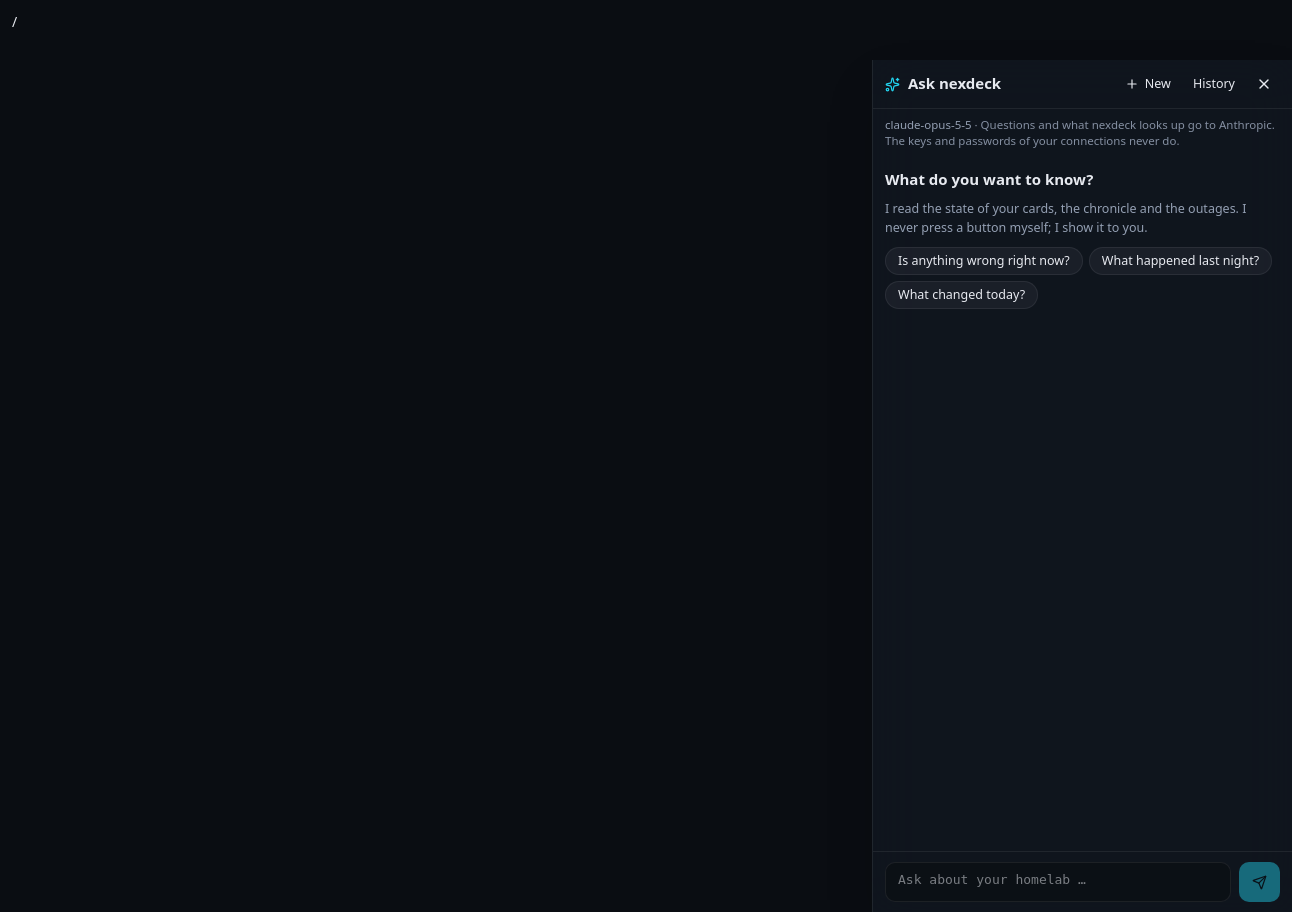
karten18 ac5: the draft in the chat › says when sample values went along
Type "Build me a card" into the text box named "Question" at {"x": 1058, "y": 882}, box [885,862,1231,902]
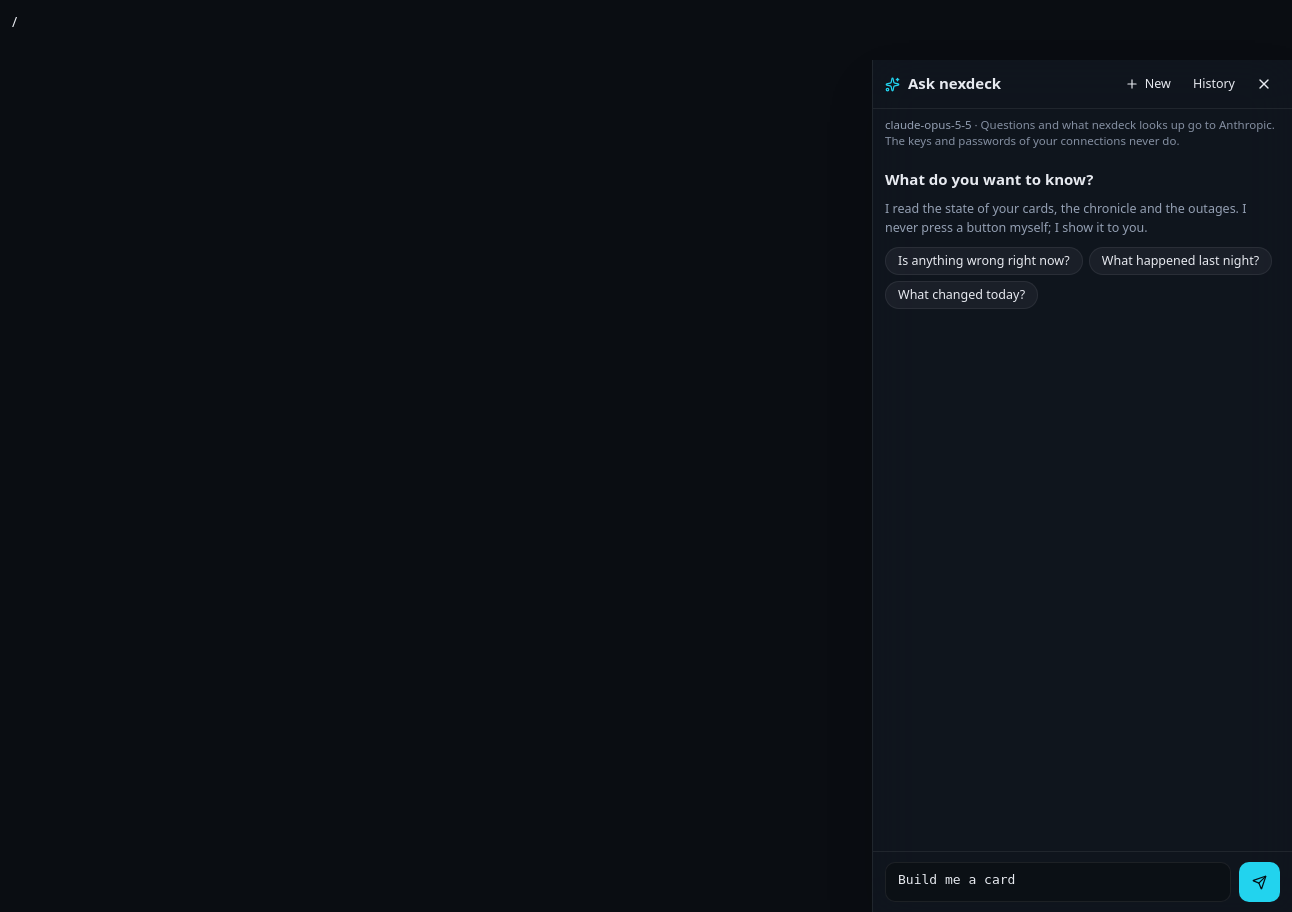
Click the button named "Send" at {"x": 1260, "y": 882}, box [1239,862,1280,902]
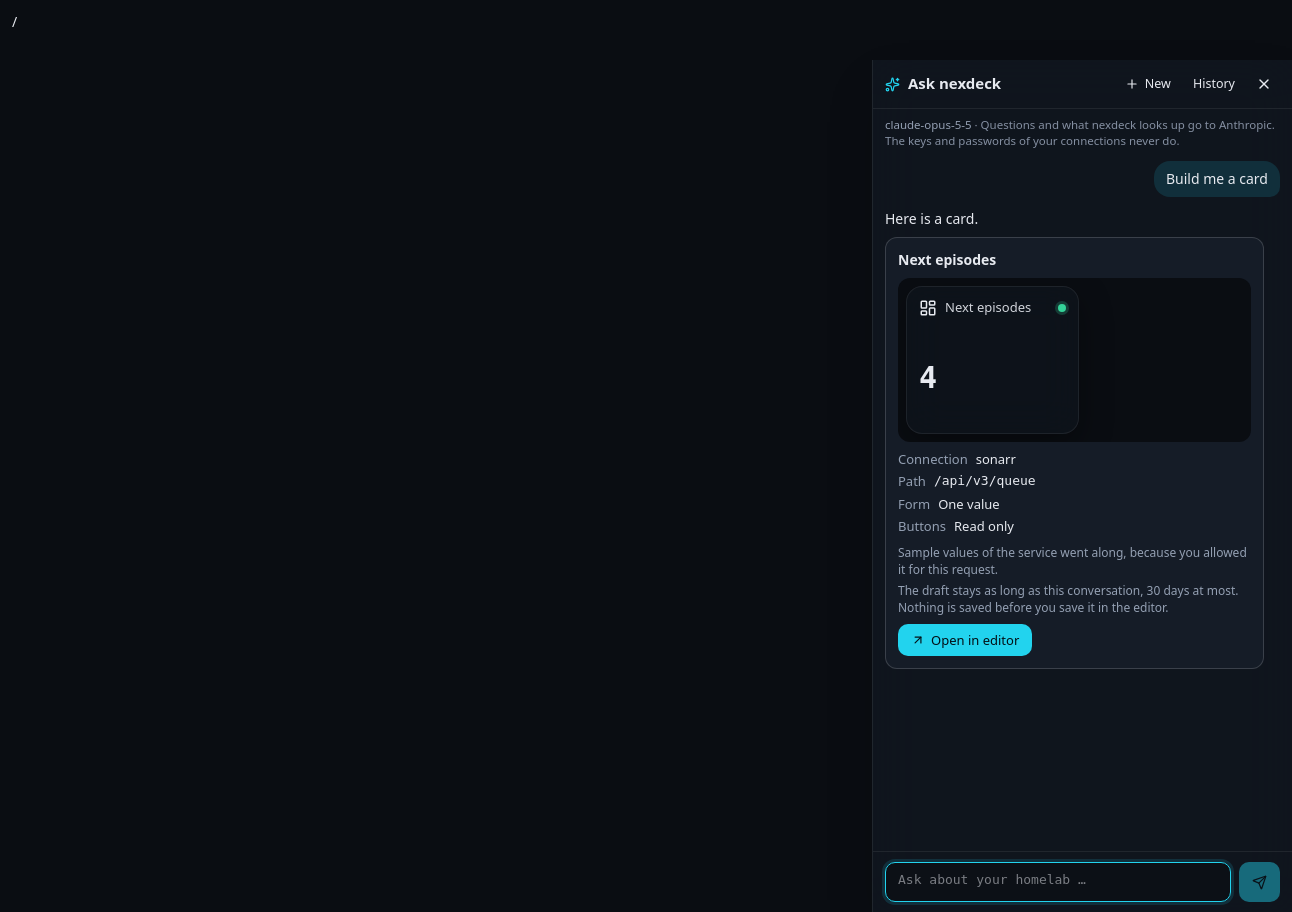
Result: the element with test id "assistant-draft" shows "Sample values of the service went along, because you allowed it" at [898,544,1247,578]
